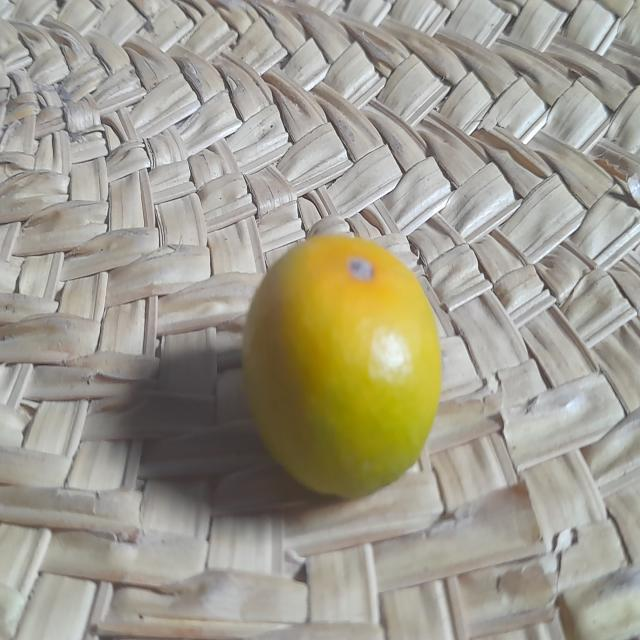greening: (240, 234, 442, 507)
